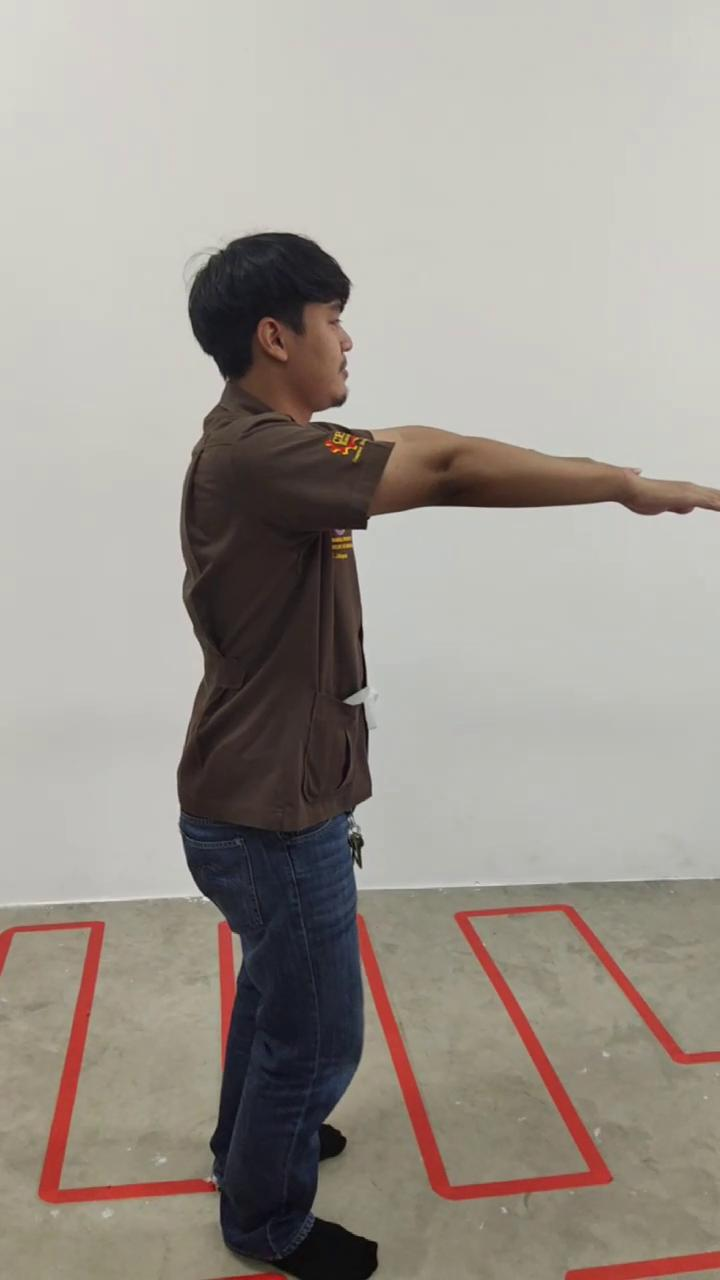squat up: (178, 232, 718, 1280)
